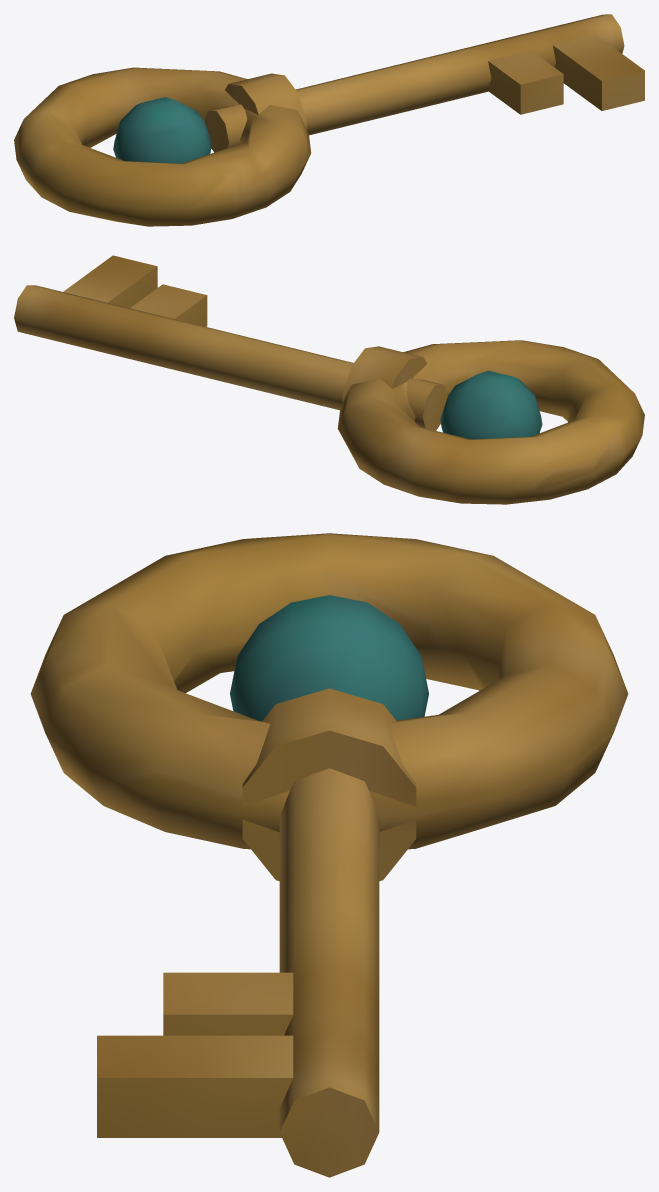
File: door-key.lod1.glb
3 renders of one model, top to bottom at view 1: azimuth 30°, elevation 25°; view 2: azimuth 150°, elevation 25°; view 3: azimuth 270°, elevation 25°, orthographic. The views are drawn at different scales.
Parts seen in each view (by area): view 1: DoorKey_brass, DoorKey_teal; view 2: DoorKey_brass, DoorKey_teal; view 3: DoorKey_brass, DoorKey_teal.
Part boxes in pixels (x1,y1,x2,y2): DoorKey_brass: (14, 14, 644, 226); DoorKey_teal: (113, 97, 211, 163); DoorKey_brass: (14, 255, 644, 504); DoorKey_teal: (440, 370, 542, 439); DoorKey_brass: (30, 533, 628, 1177); DoorKey_teal: (230, 595, 428, 721).
Size of the model in its own units: 0.161 by 0.0228 by 0.072.
Materials: 2 (2 with a texture image).
